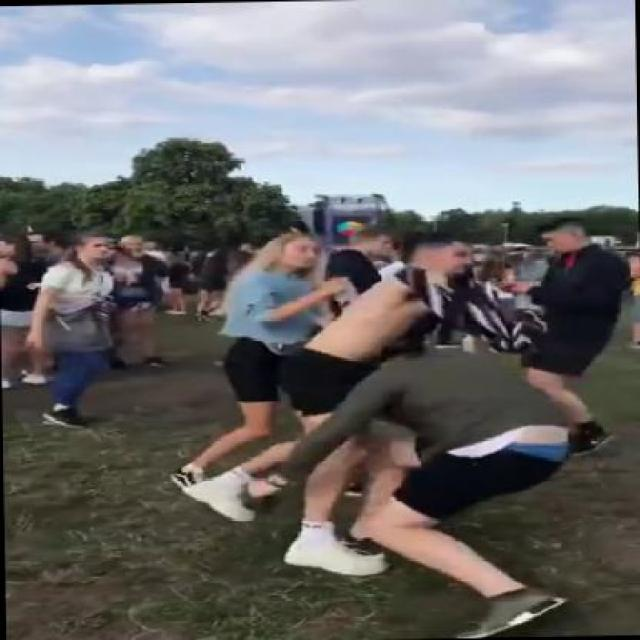fight: (288, 226, 574, 629)
